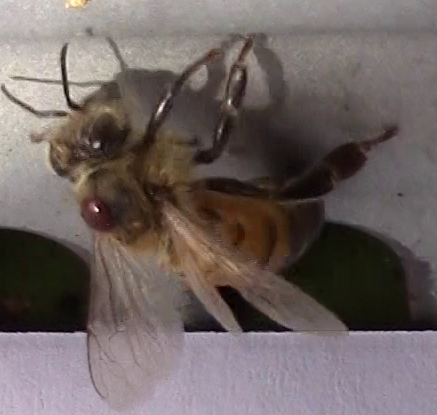Varroa destructor: (79, 198, 118, 234)
